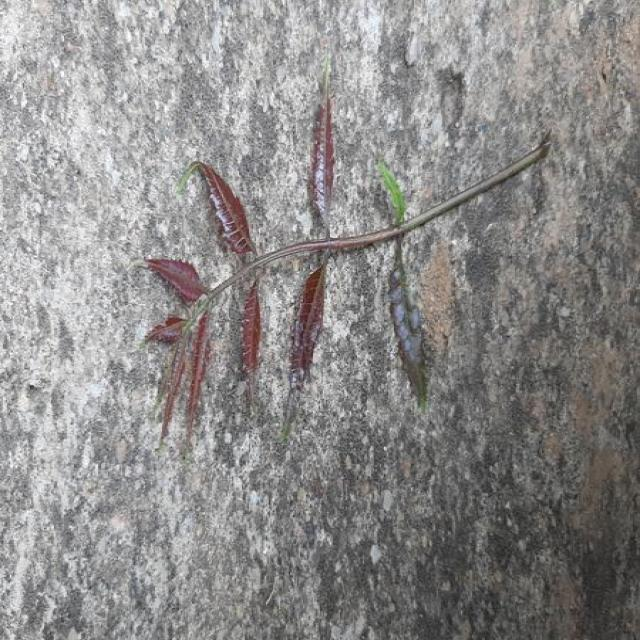neem: (143, 310, 212, 444), (282, 255, 328, 437), (177, 161, 257, 263), (388, 235, 423, 404), (308, 50, 335, 234), (240, 276, 263, 411), (145, 258, 207, 307), (375, 158, 405, 224)
